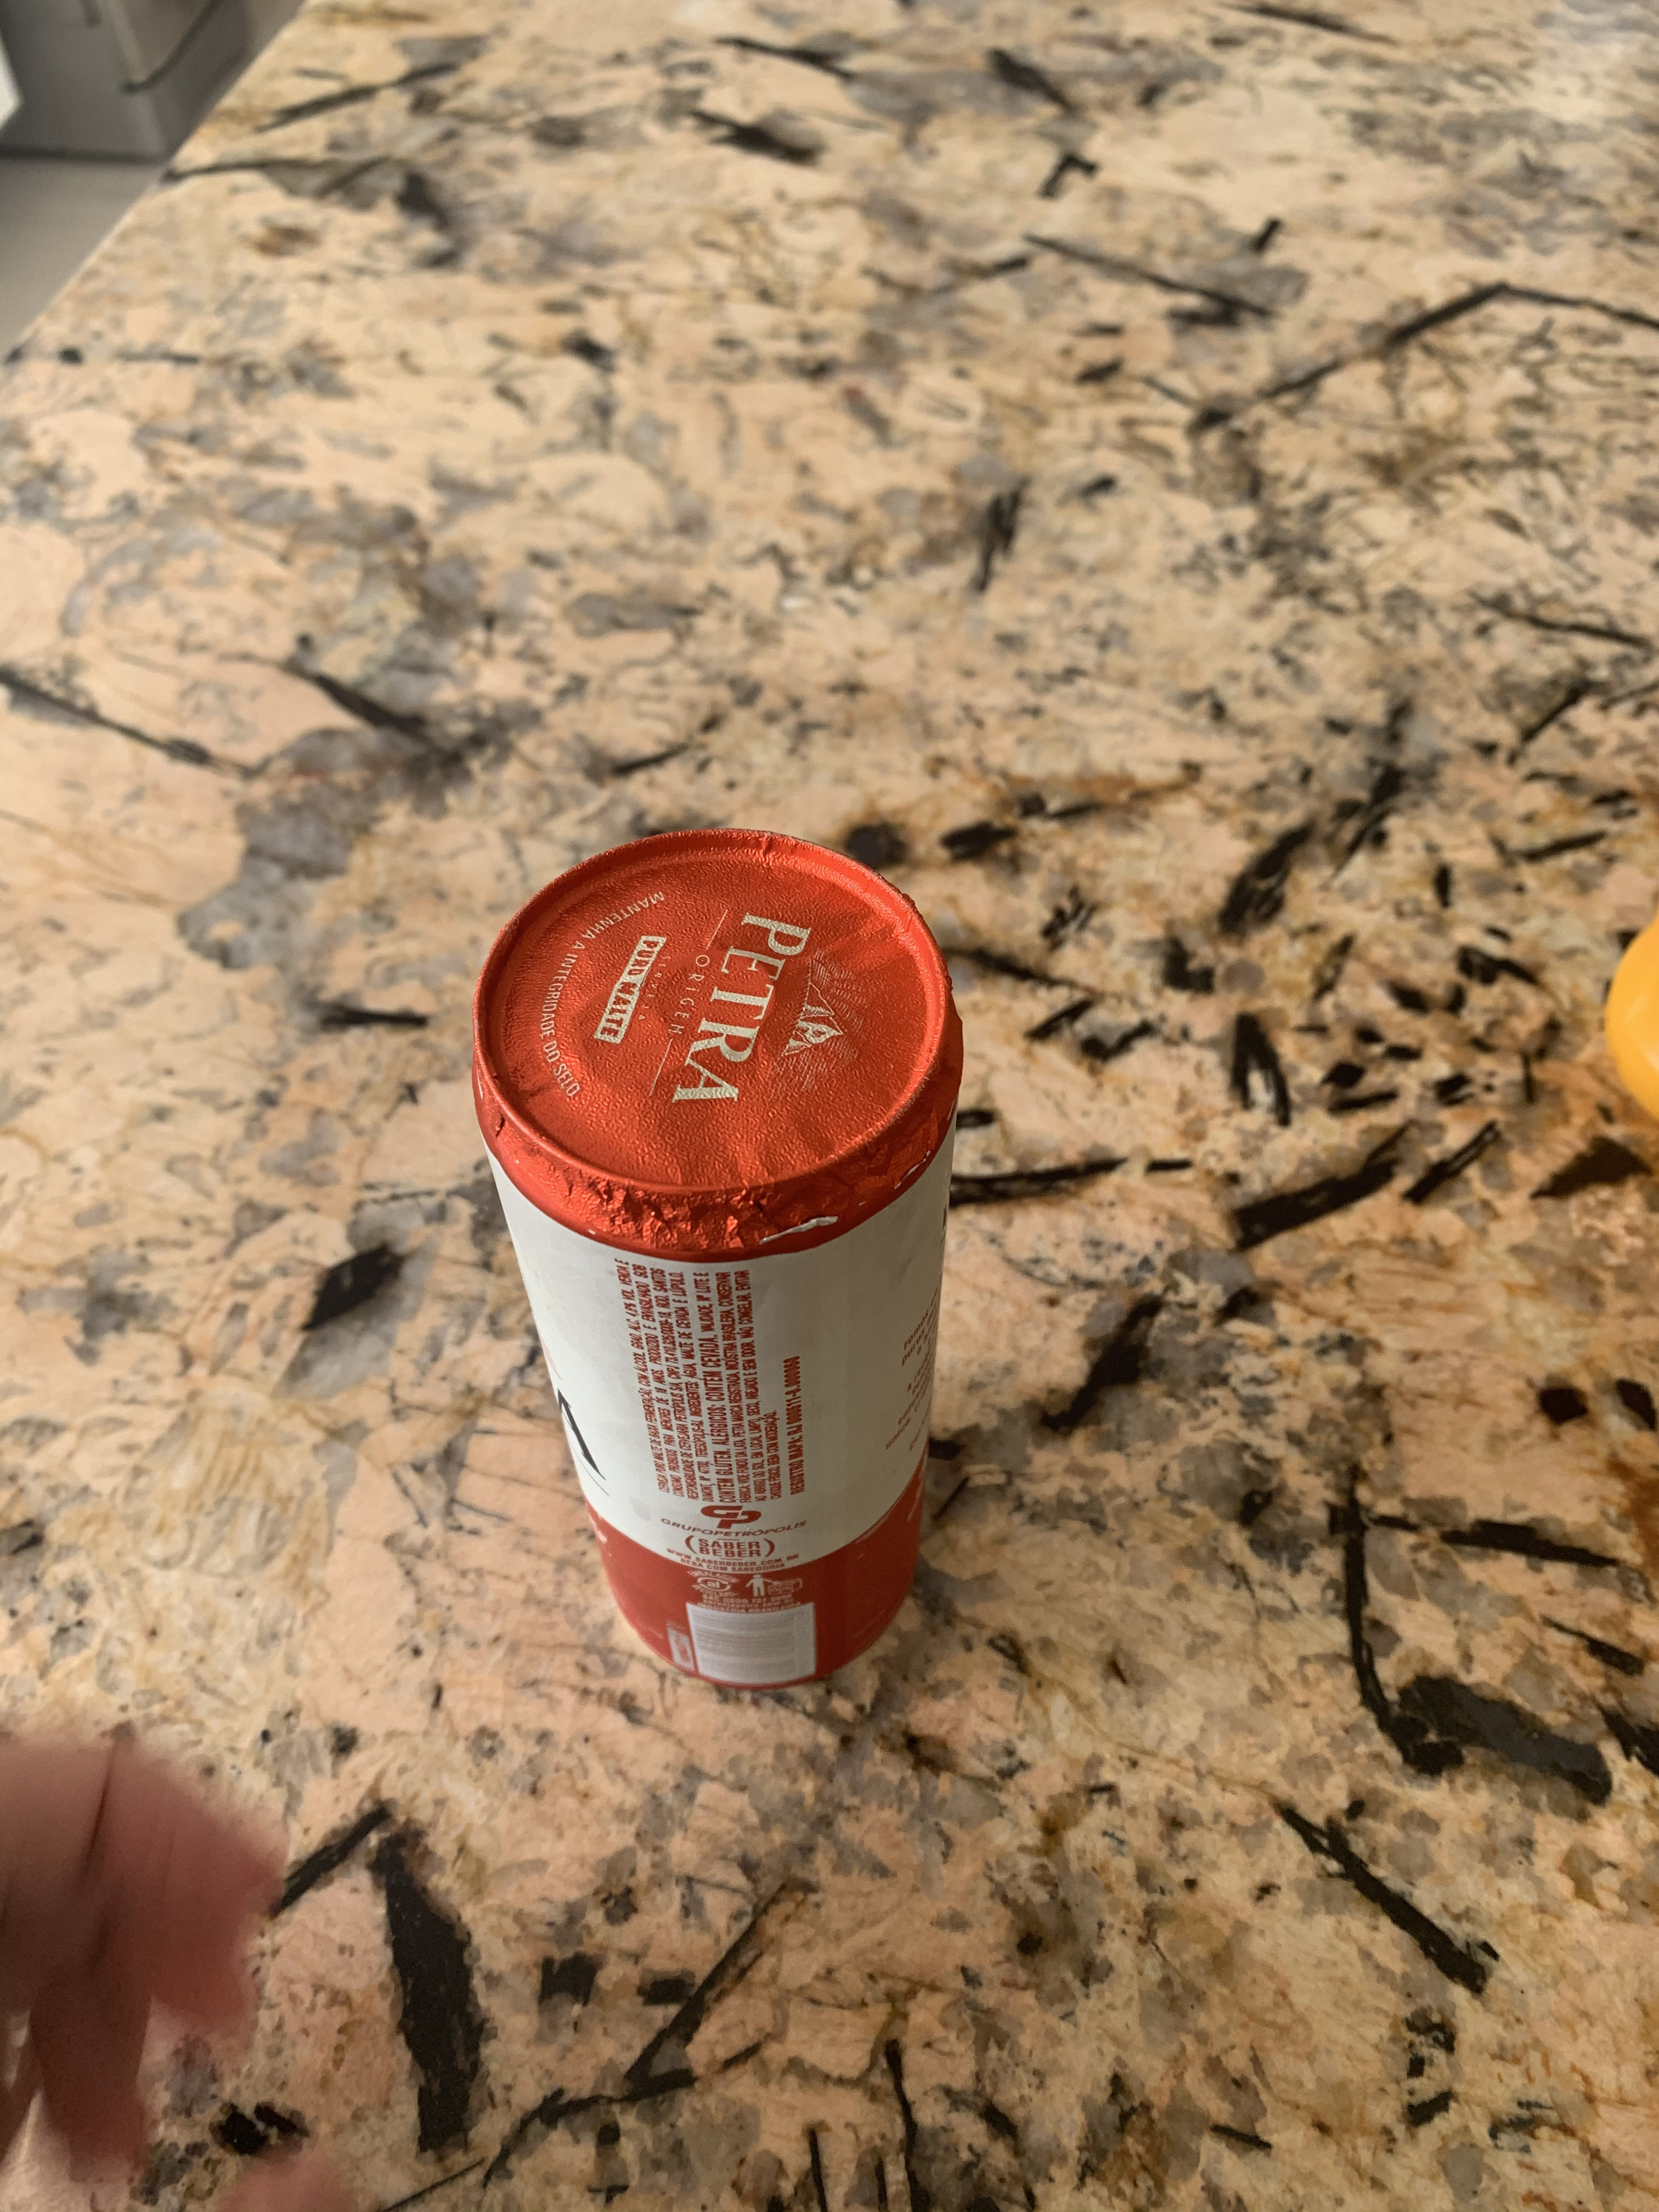petra: (376, 880, 1075, 1726)
